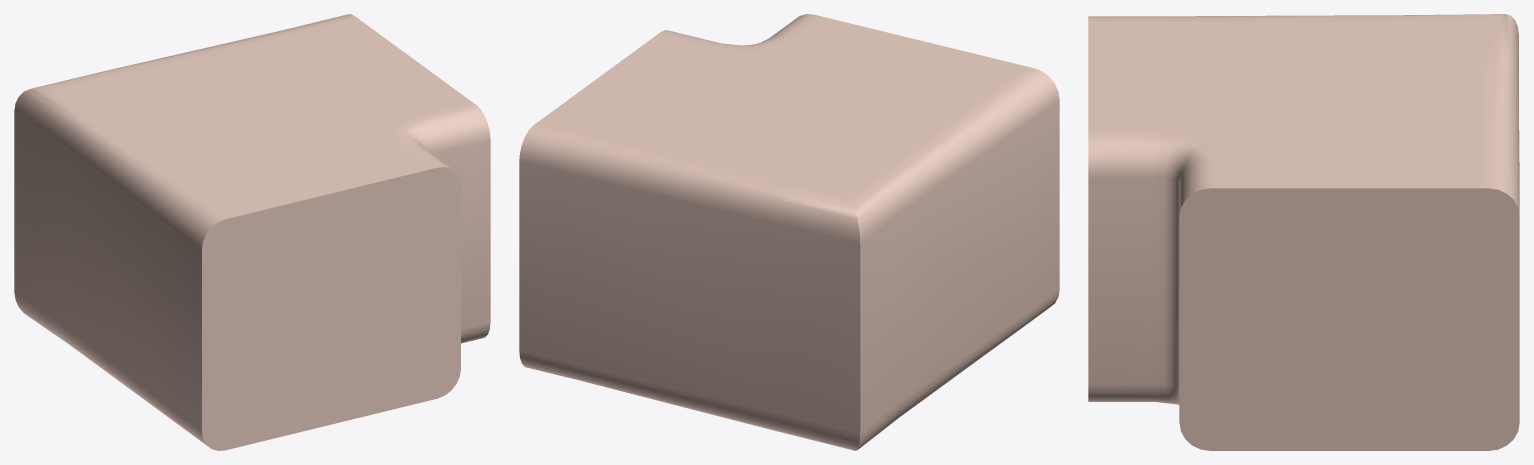
File: Cupboard Tilt B.fbx
3 renders of one model, left to right at view 1: azimuth 30°, elevation 25°; view 2: azimuth 150°, elevation 25°; view 3: azimuth 270°, elevation 25°, orthographic. The views are drawn at different scales.
Parts seen in each view (by area): view 1: Cupboard.017; view 2: Cupboard.017; view 3: Cupboard.017.
Boxes of the visible parts, box(x1,y1,x2,y2) form: Cupboard.017: box(14, 14, 490, 450); Cupboard.017: box(519, 14, 1059, 450); Cupboard.017: box(1088, 14, 1519, 450).
Size of the model in its own units: 2.09 by 1.41 by 2.09.
